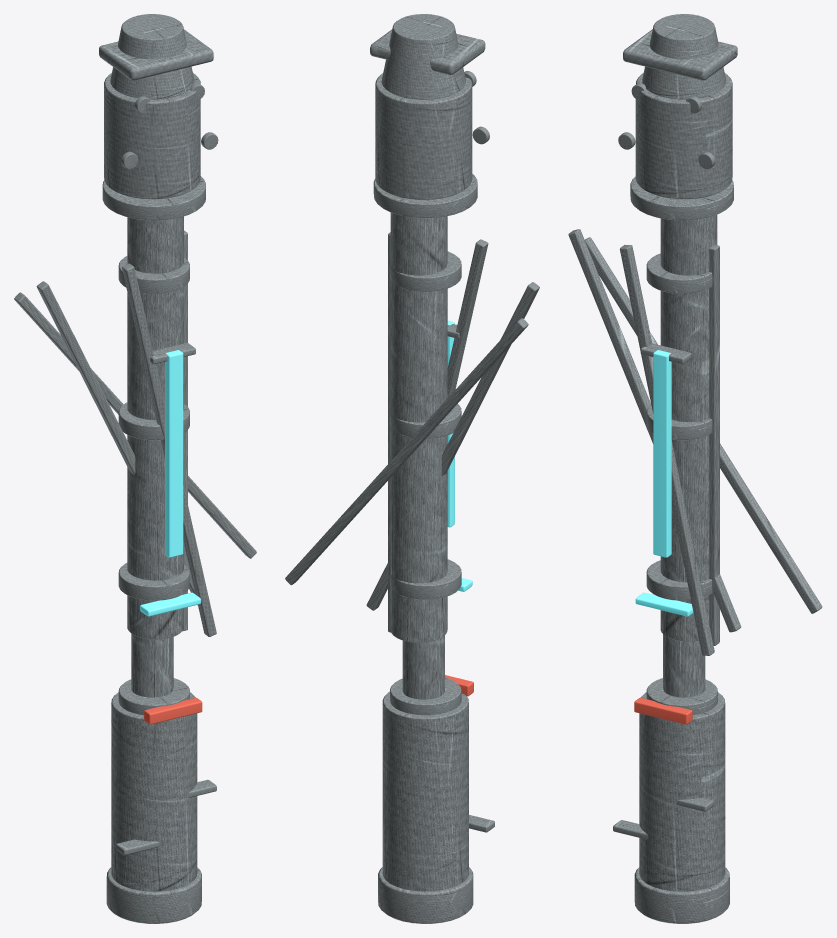
File: hp_viewmodel_iron_rod_production.glb
The picture shows the model from 3 angles, left to right: view 1: azimuth 30°, elevation 25°; view 2: azimuth 150°, elevation 25°; view 3: azimuth 330°, elevation 25°; orthographic projection.
Visible parts, largest first — view 1: iron_rod_black_rubber_grip_wrap, iron_rod_scraped_outer_sleeve, iron_rod_front_impact_head, iron_rod_forward_strike_crown, iron_rod_cyan_energy_spine_window, iron_rod_longitudinal_scraped_rib_01, iron_rod_rear_bronze_counter_cap, iron_rod_longitudinal_scraped_rib_02, iron_rod_main_shaft_dark_core, iron_rod_longitudinal_scraped_rib_03, iron_rod_flat_impact_face, iron_rod_raised_edge_ring_07 (+7 smaller); view 2: iron_rod_scraped_outer_sleeve, iron_rod_black_rubber_grip_wrap, iron_rod_front_impact_head, iron_rod_forward_strike_crown, iron_rod_longitudinal_scraped_rib_03, iron_rod_rear_bronze_counter_cap, iron_rod_longitudinal_scraped_rib_02, iron_rod_main_shaft_dark_core, iron_rod_raised_edge_ring_07, iron_rod_longitudinal_scraped_rib_01, iron_rod_flat_impact_face, iron_rod_raised_edge_ring_03 (+5 smaller); view 3: iron_rod_black_rubber_grip_wrap, iron_rod_scraped_outer_sleeve, iron_rod_front_impact_head, iron_rod_forward_strike_crown, iron_rod_longitudinal_scraped_rib_01, iron_rod_longitudinal_scraped_rib_00, iron_rod_cyan_energy_spine_window, iron_rod_longitudinal_scraped_rib_03, iron_rod_longitudinal_scraped_rib_02, iron_rod_rear_bronze_counter_cap, iron_rod_flat_impact_face, iron_rod_main_shaft_dark_core (+7 smaller).
Boxes of the visible parts, x1,y1,x2,y2 form: iron_rod_black_rubber_grip_wrap: (111,692,197,891); iron_rod_scraped_outer_sleeve: (127,216,183,639); iron_rod_front_impact_head: (104,73,200,199); iron_rod_forward_strike_crown: (110,14,194,99); iron_rod_cyan_energy_spine_window: (165,350,183,557); iron_rod_longitudinal_scraped_rib_01: (122,263,216,636); iron_rod_rear_bronze_counter_cap: (106,867,201,923); iron_rod_longitudinal_scraped_rib_02: (36,281,197,605); iron_rod_main_shaft_dark_core: (131,633,173,697); iron_rod_longitudinal_scraped_rib_03: (14,292,256,558); iron_rod_flat_impact_face: (99,29,213,80); iron_rod_raised_edge_ring_07: (102,176,205,220); iron_rod_scraped_outer_sleeve: (390,212,447,642); iron_rod_black_rubber_grip_wrap: (382,691,468,891); iron_rod_front_impact_head: (375,73,472,199); iron_rod_forward_strike_crown: (381,14,465,99); iron_rod_longitudinal_scraped_rib_03: (285,318,528,585); iron_rod_rear_bronze_counter_cap: (378,867,473,923); iron_rod_longitudinal_scraped_rib_02: (366,282,539,610); iron_rod_main_shaft_dark_core: (402,635,444,699); iron_rod_raised_edge_ring_07: (373,174,477,218); iron_rod_longitudinal_scraped_rib_01: (447,239,488,397); iron_rod_flat_impact_face: (370,29,485,74); iron_rod_raised_edge_ring_03: (390,677,461,715); iron_rod_black_rubber_grip_wrap: (639,692,725,891); iron_rod_scraped_outer_sleeve: (660,214,717,641); iron_rod_front_impact_head: (635,73,732,199); iron_rod_forward_strike_crown: (642,14,726,99); iron_rod_longitudinal_scraped_rib_01: (620,245,714,655); iron_rod_longitudinal_scraped_rib_00: (709,244,719,645); iron_rod_cyan_energy_spine_window: (653,350,671,557); iron_rod_longitudinal_scraped_rib_03: (585,237,822,613); iron_rod_longitudinal_scraped_rib_02: (568,229,741,632); iron_rod_rear_bronze_counter_cap: (634,867,729,923); iron_rod_flat_impact_face: (623,29,737,80); iron_rod_main_shaft_dark_core: (663,634,705,697).
Size of the model in its own units: 0.716 by 2.52 by 0.271.
7 materials, 5 textured.
